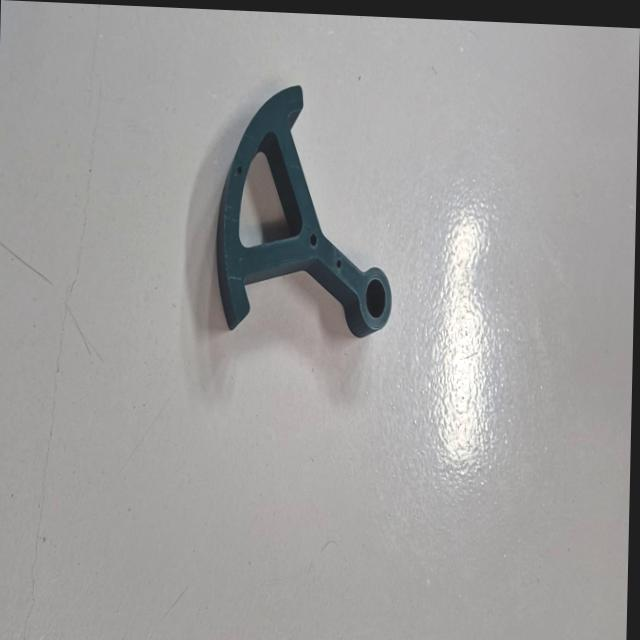haptic: (212, 79, 397, 341)
